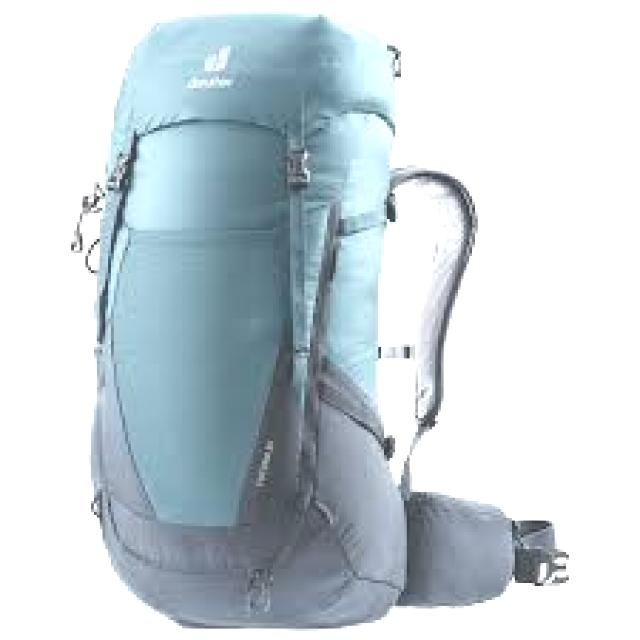backpack: (70, 4, 570, 630)
